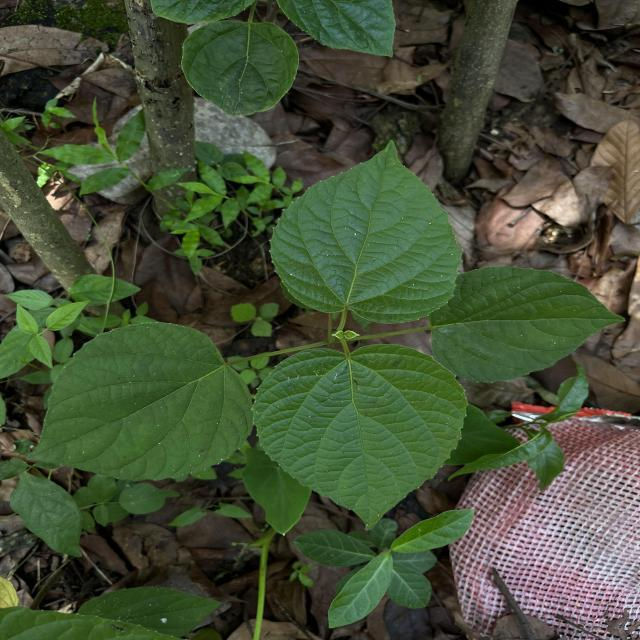Clerodendrum infortunatum: (250, 342, 470, 532), (24, 321, 255, 484), (267, 138, 464, 326), (428, 264, 628, 384)
